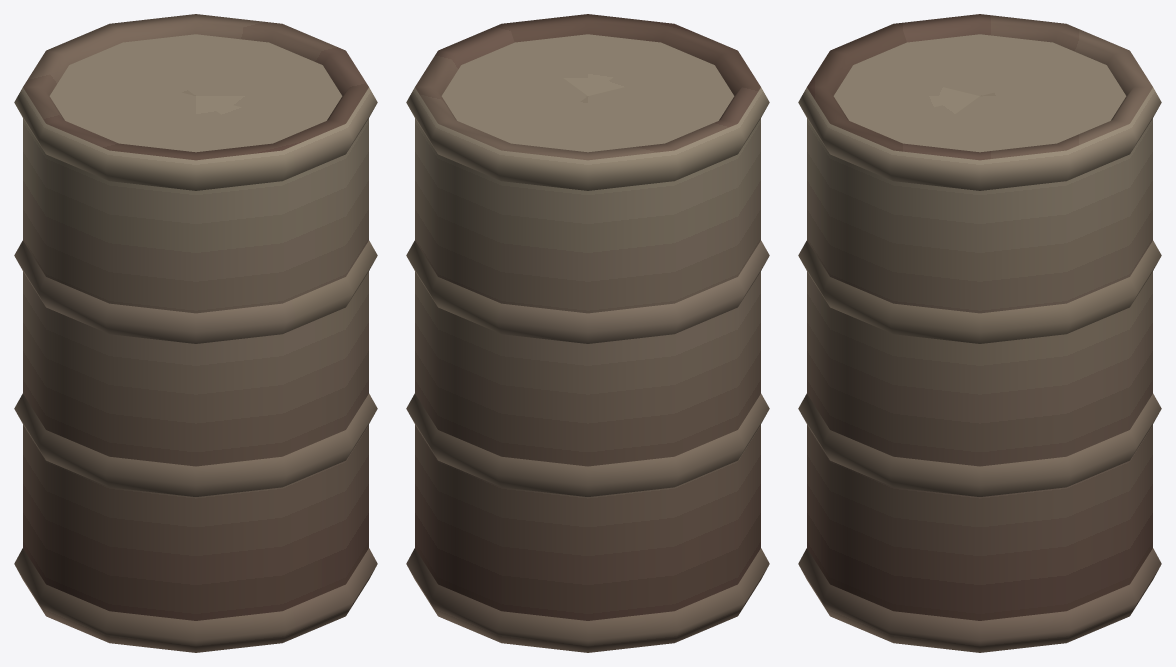
File: DL_Obj_Level3_BarrelMetal2.fbx
3 views of the same model, side by side, from view 1: azimuth 30°, elevation 25°; view 2: azimuth 150°, elevation 25°; view 3: azimuth 270°, elevation 25° (orthographic).
Parts seen in each view (by area): view 1: Level3_BarrelMetal2; view 2: Level3_BarrelMetal2; view 3: Level3_BarrelMetal2.
Boxes of the visible parts, box(x1,y1,x2,y2) form: Level3_BarrelMetal2: box(14, 14, 377, 652); Level3_BarrelMetal2: box(406, 14, 769, 652); Level3_BarrelMetal2: box(798, 14, 1161, 652).
Bounding box in the file's own units: 73.58 × 110 × 73.58.
